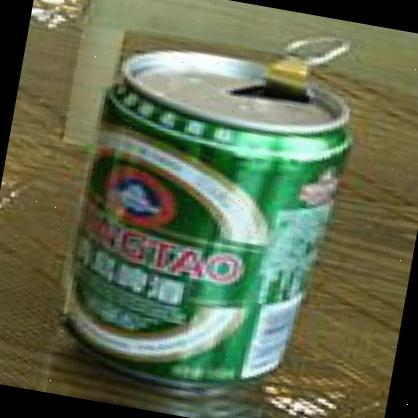can: (54, 36, 364, 410)
